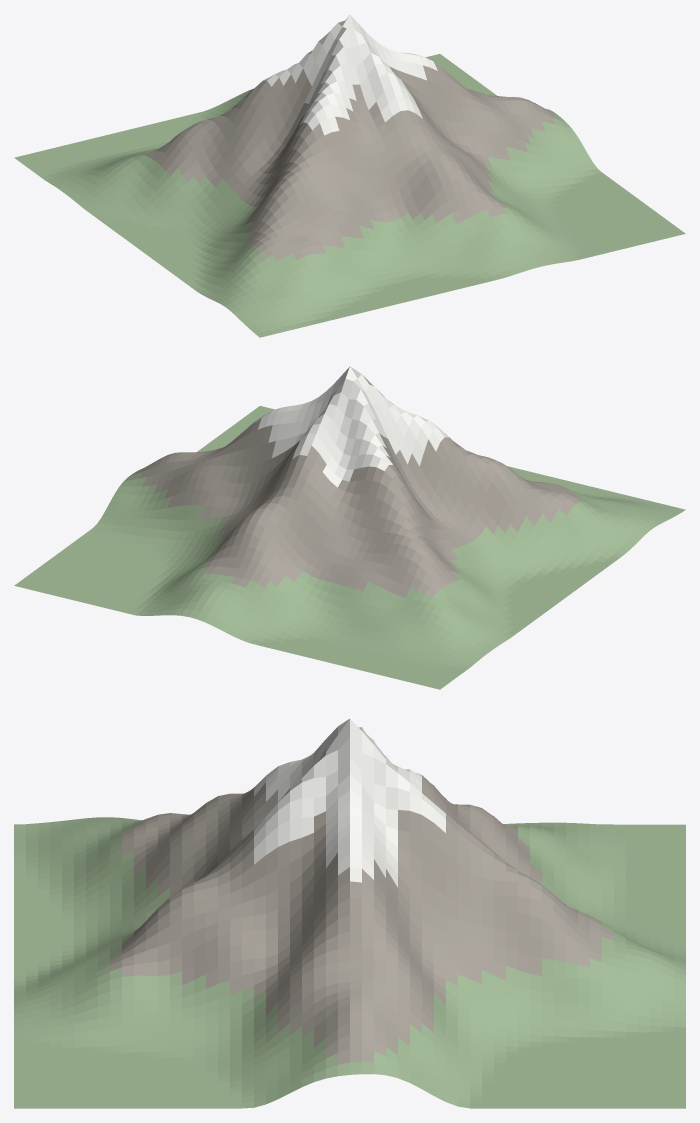
Rendered from mountain_peak.glb.
3 renders of one model, top to bottom at view 1: azimuth 30°, elevation 25°; view 2: azimuth 150°, elevation 25°; view 3: azimuth 270°, elevation 25°, orthographic. The views are drawn at different scales.
Visible parts, largest first — view 1: mountain_peak; view 2: mountain_peak; view 3: mountain_peak.
Part boxes in pixels (x1,y1,x2,y2): mountain_peak: [14, 14, 685, 337]; mountain_peak: [14, 366, 685, 689]; mountain_peak: [14, 718, 685, 1108].
Bounding box in the file's own units: 1000 × 407 × 1000.
